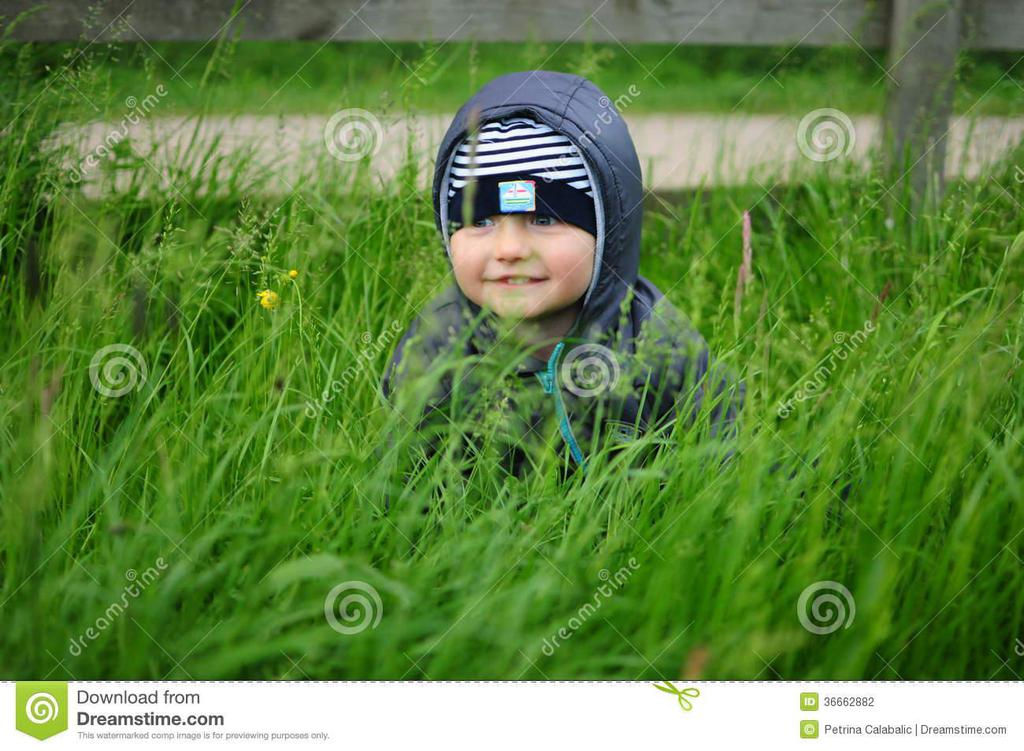child: (367, 56, 765, 520)
